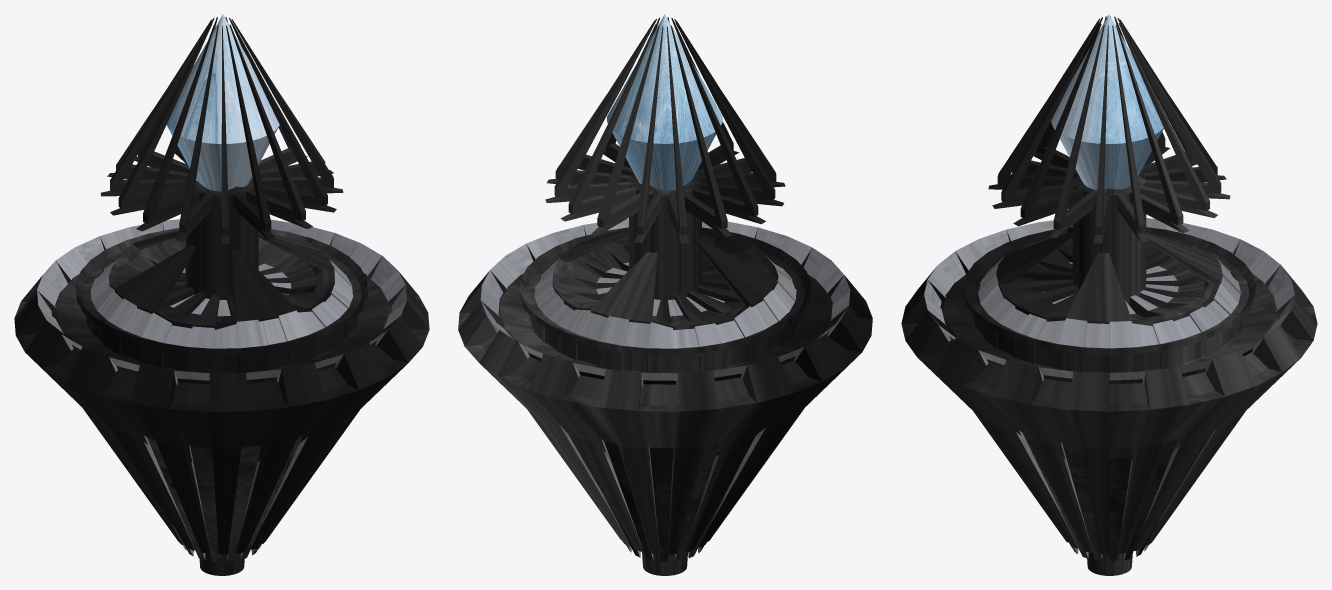
Rendered from Tower.fbx.
3 views of the same model, side by side, from view 1: azimuth 30°, elevation 25°; view 2: azimuth 150°, elevation 25°; view 3: azimuth 270°, elevation 25° (orthographic).
Parts seen in each view (by area): view 1: Cylinder.002, Cone.002; view 2: Cylinder.002, Cone.002; view 3: Cylinder.002, Cone.002.
Boxes of the visible parts, x1=… form: Cylinder.002: x1=14, y1=17, x2=429, y2=575; Cone.002: x1=166, y1=14, x2=279, y2=191; Cylinder.002: x1=458, y1=17, x2=872, y2=575; Cone.002: x1=607, y1=14, x2=722, y2=190; Cylinder.002: x1=901, y1=16, x2=1317, y2=575; Cone.002: x1=1051, y1=14, x2=1166, y2=189.
Bounding box in the file's own units: 587 × 861 × 587.
